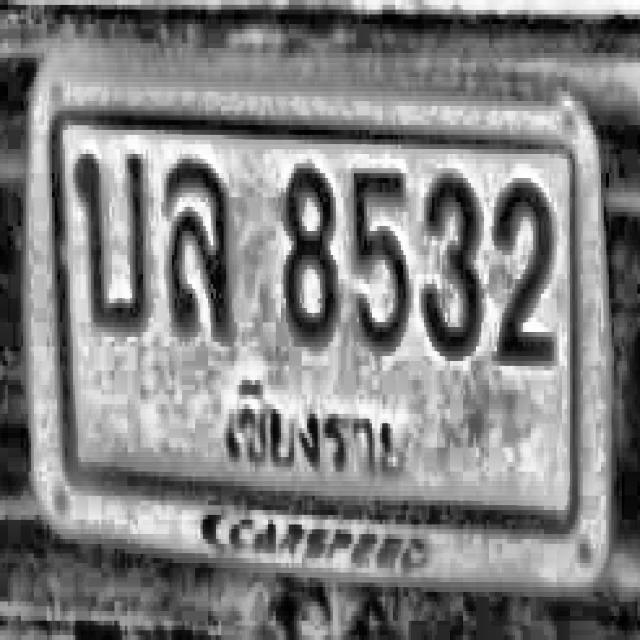license-plate: (18, 33, 615, 608)
